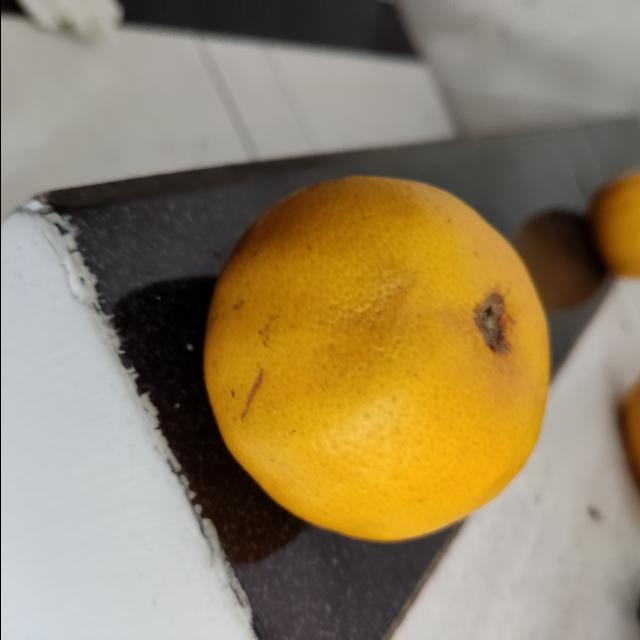agrume: (199, 173, 553, 544)
